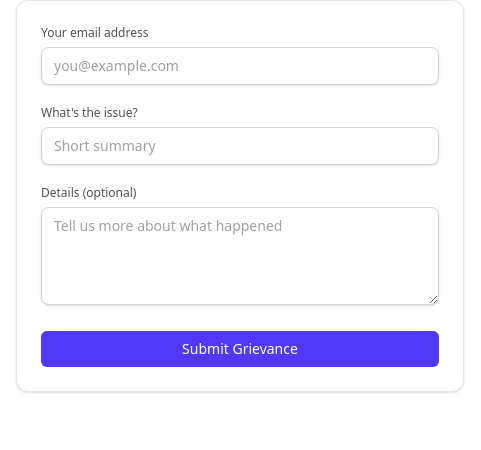
Test case: GrievancePortal › shows an error message if submission fails
The width and height of the screenshot is (481, 450).
In the field labelled "Your email address": (240, 66) [41, 47, 439, 85], type "alice@example.com"
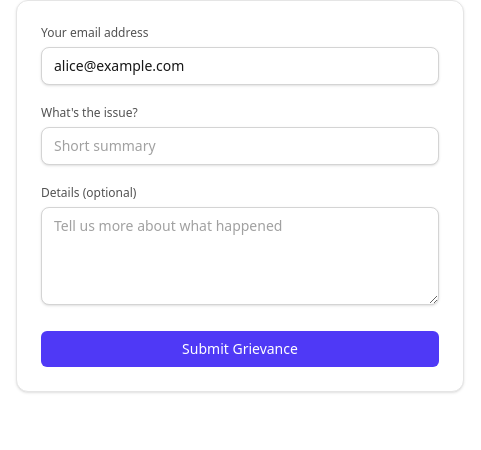
In the field labelled "What's the issue?": (240, 146) [41, 127, 439, 165], type "Unwanted marketing"
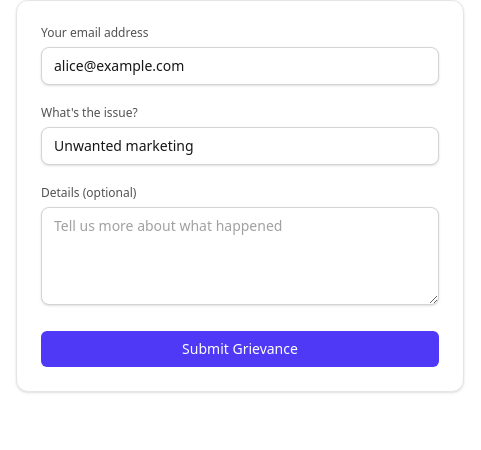
Click the button "Submit Grievance": (240, 349) [41, 331, 439, 367]
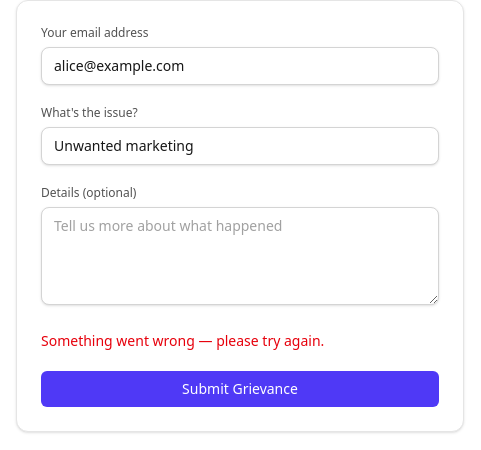
Check: the text "Something went wrong — please try again." is shown, box [41, 331, 324, 350]
